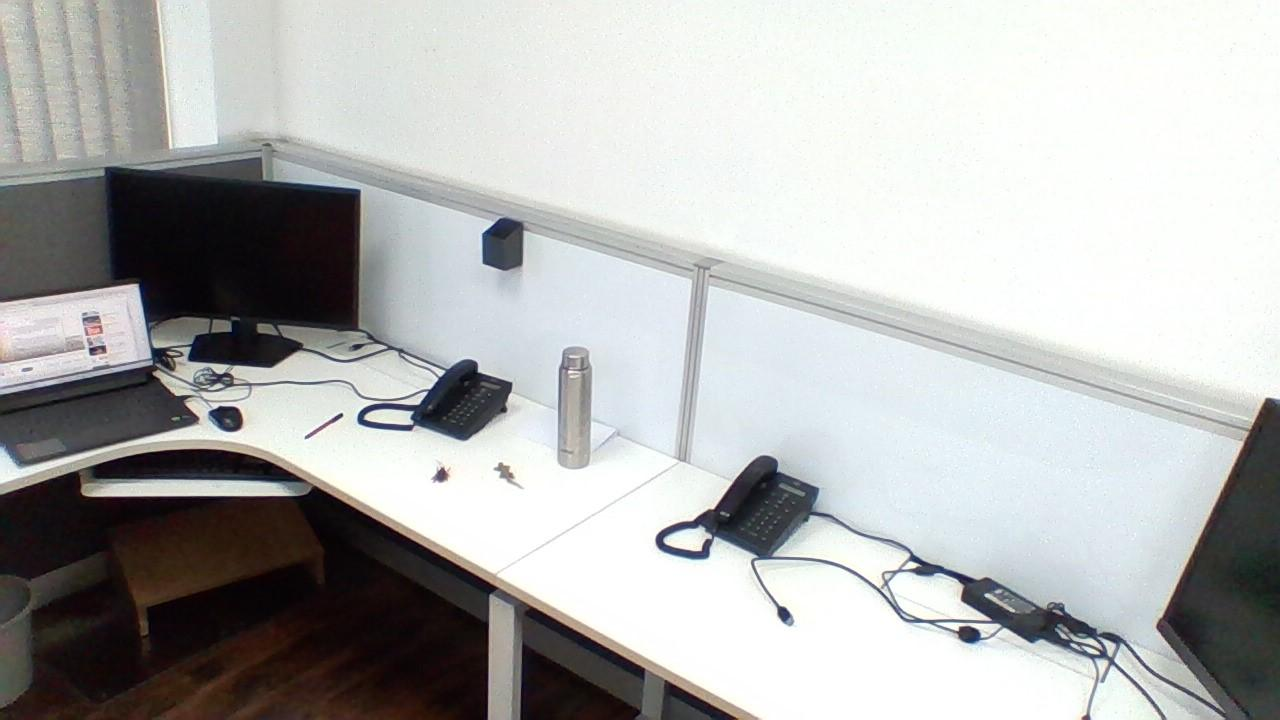cockroach: (425, 460, 454, 490)
lizard: (493, 462, 530, 492)
